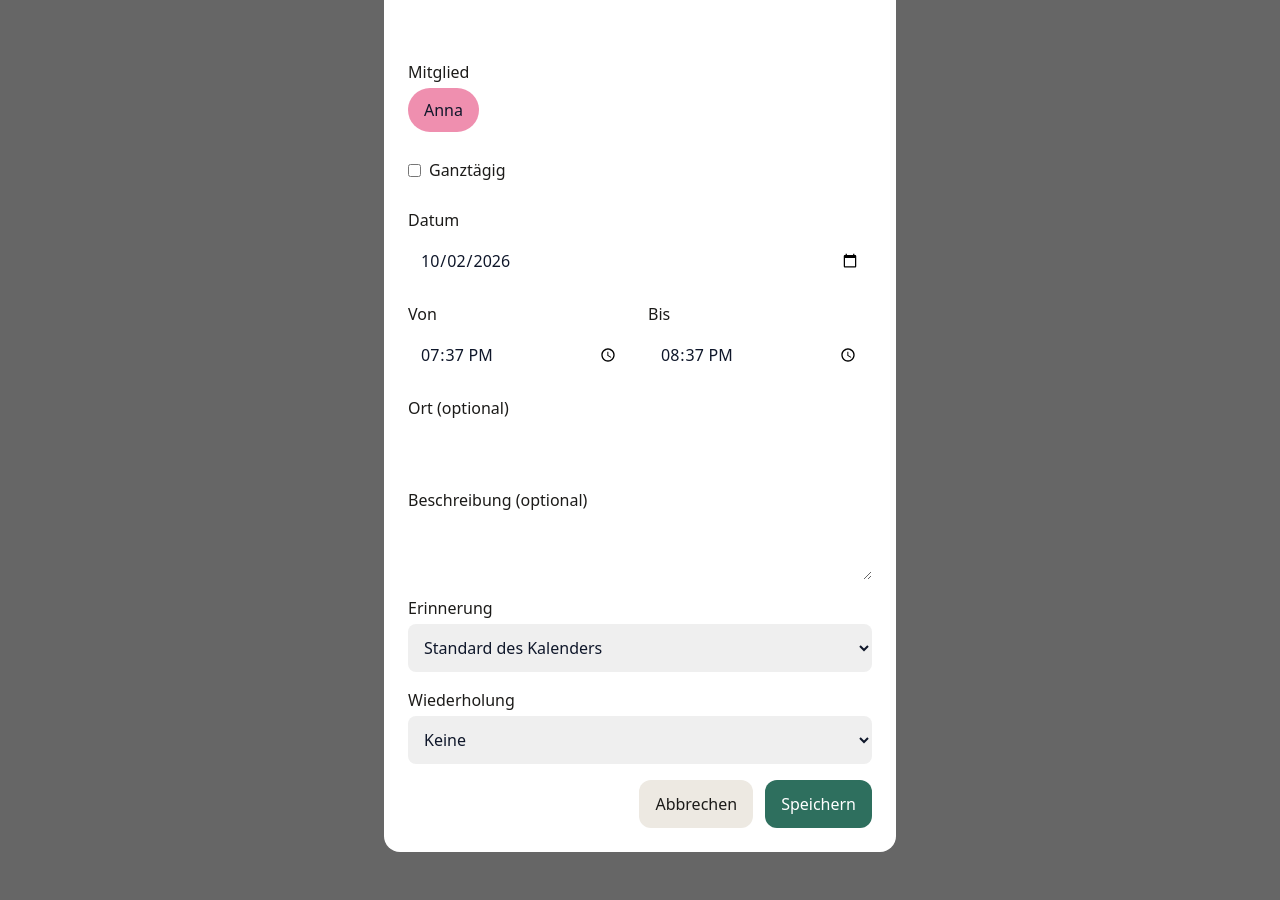
EventDialog (create) › requires title and member
(page scrolled)
Click the button "Speichern".
click(819, 804)  # box [765,780,872,828]
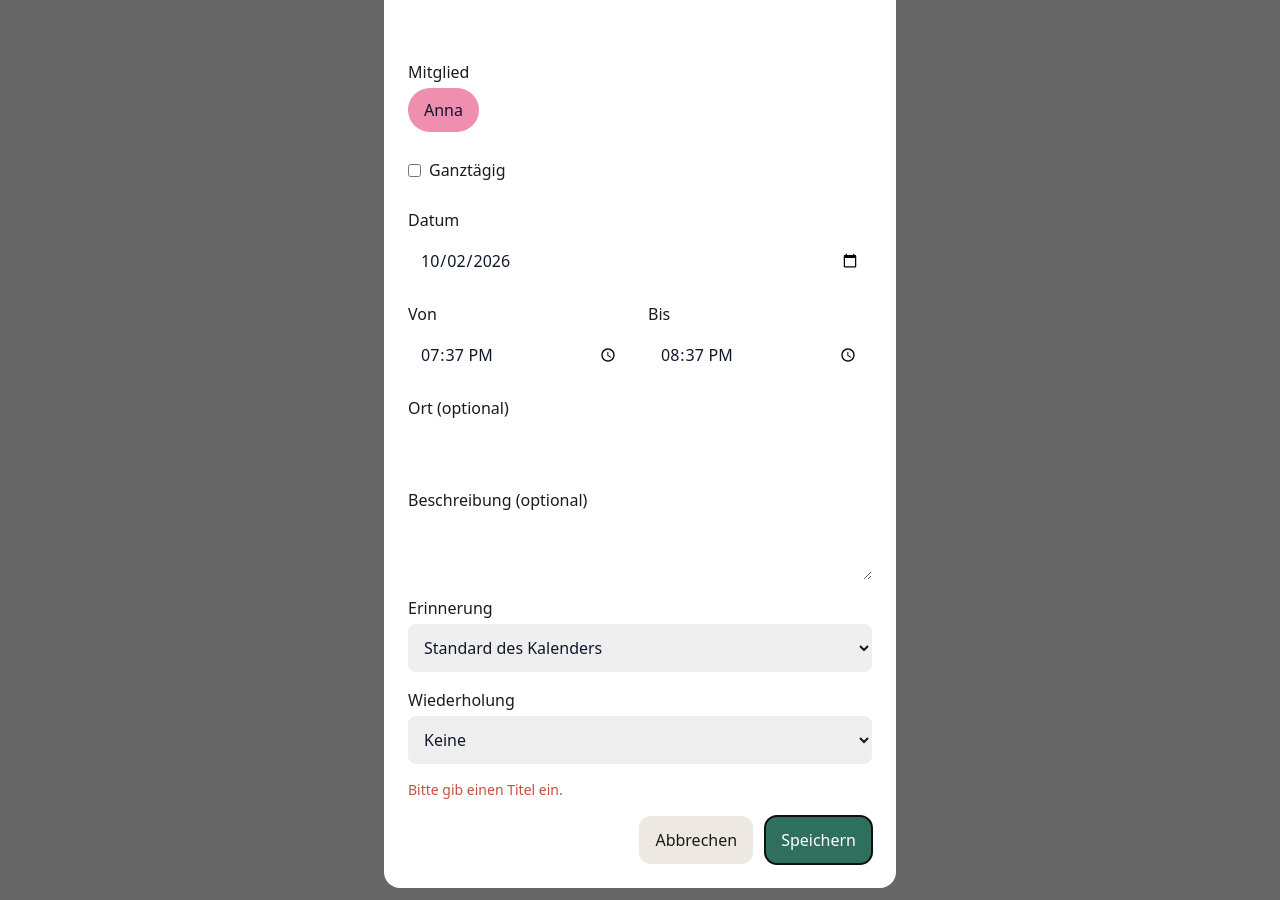
Check: the text "Bitte gib einen Titel ein." is shown, box [408,780,563,799]
